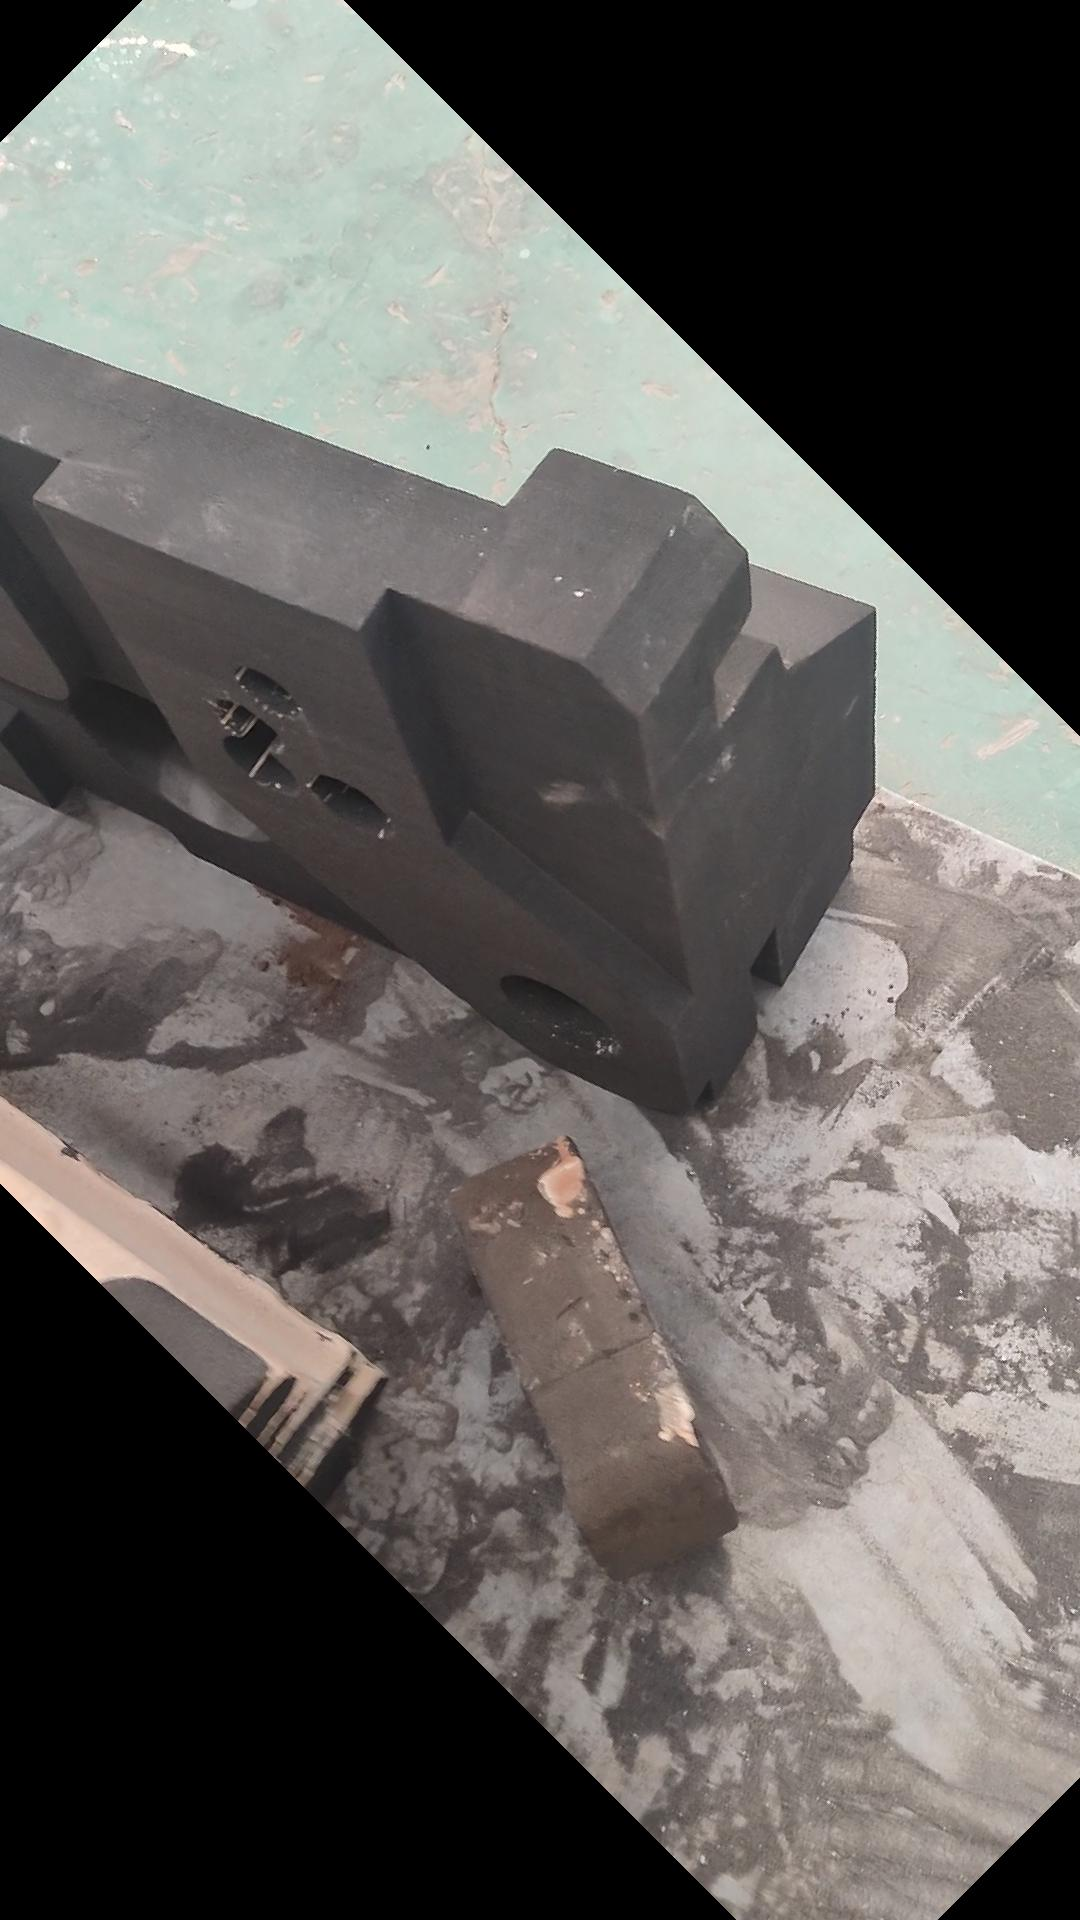pouring hole: (498, 975, 618, 1056)
